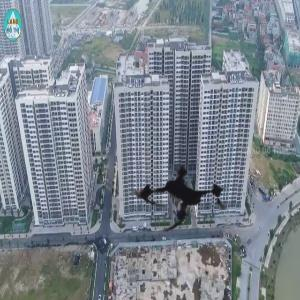drone: (100, 112, 267, 279)
